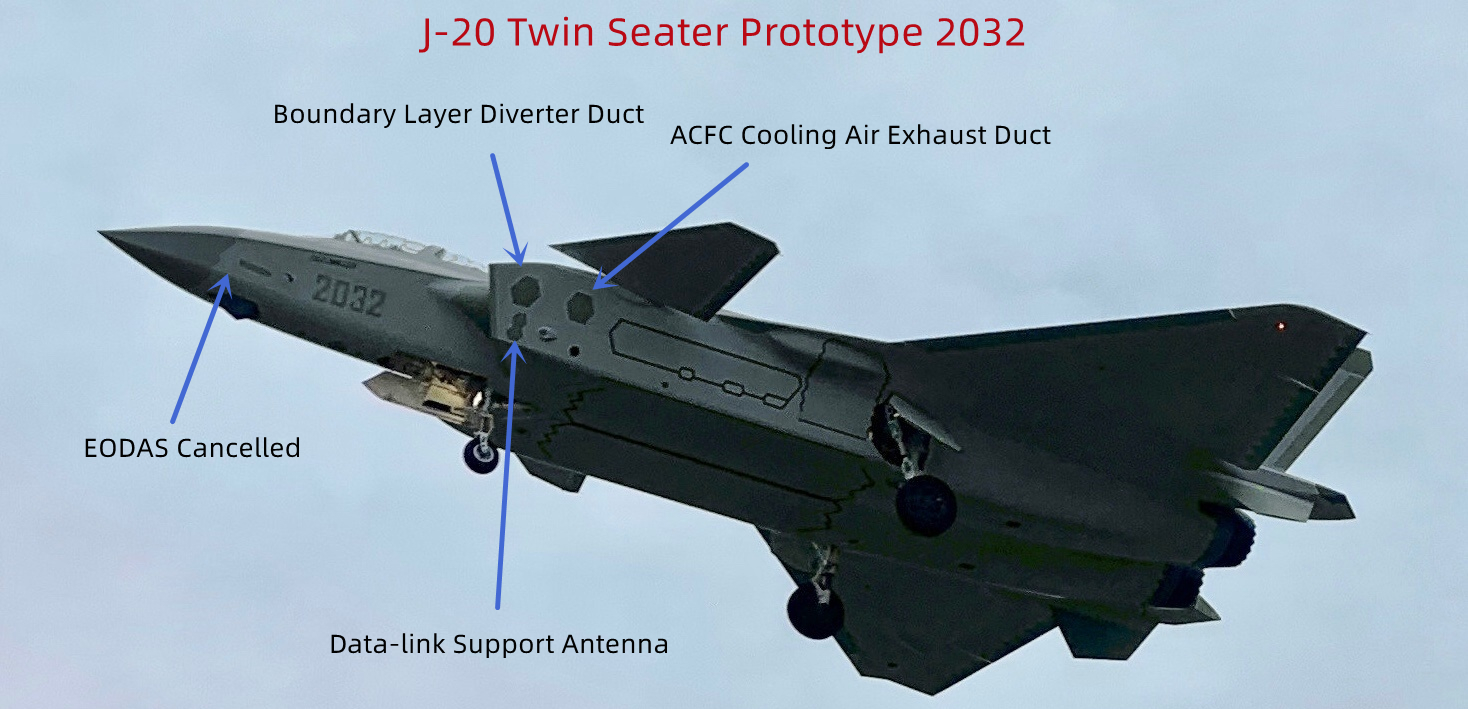J20: (95, 220, 1373, 697)
